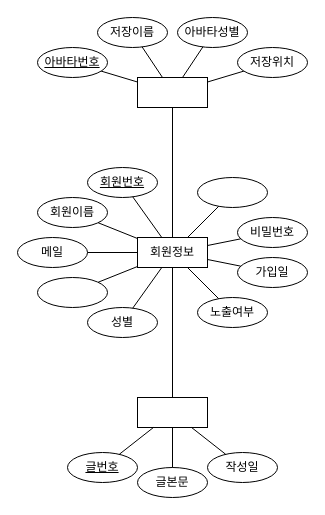
The diagram is 325 pixels wide and 515 high, and some of its shapes have lost their labels. Each missing label, with the box of its shape:
방명록: (136, 396, 208, 428)
아바타: (136, 76, 208, 108)
아이디: (196, 176, 268, 208)
전화번호: (36, 276, 108, 308)
